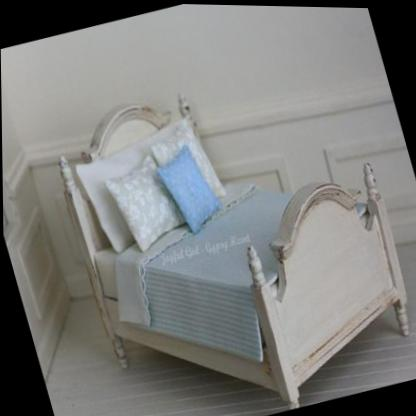Bed: (40, 36, 416, 416)
